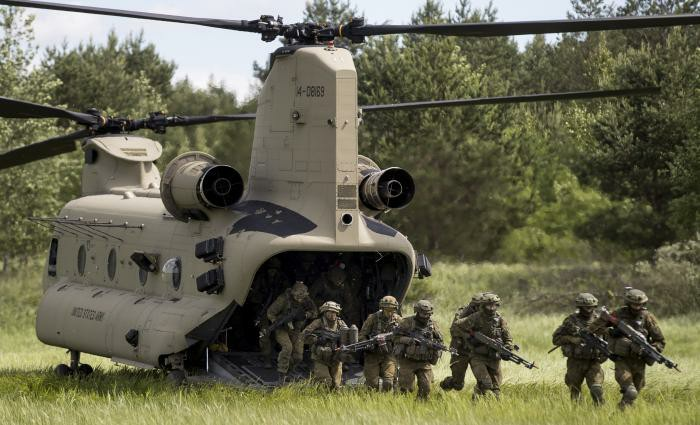chinook: (12, 36, 465, 386)
